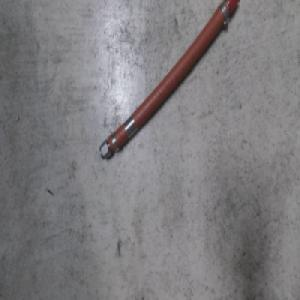Hose: (96, 0, 239, 165)
